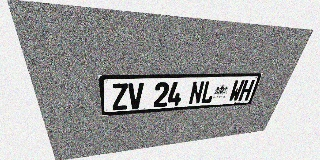2: (154, 82, 170, 107)
4: (167, 82, 183, 106)
H: (238, 80, 255, 101)
L: (200, 81, 217, 104)
N: (188, 81, 205, 105)
V: (128, 83, 144, 109)
W: (228, 80, 245, 102)
Z: (111, 83, 128, 110)
